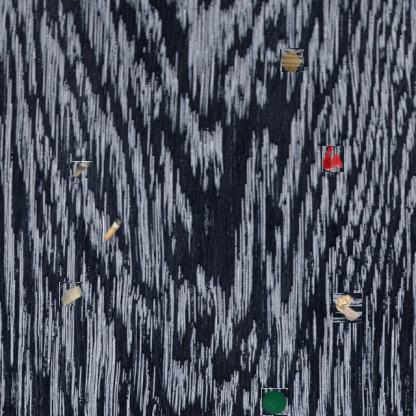dirty: (332, 293, 362, 323), (261, 388, 288, 415), (59, 282, 83, 306), (103, 216, 122, 242), (70, 161, 92, 178)
liquid: (322, 146, 344, 172), (280, 48, 303, 72)
